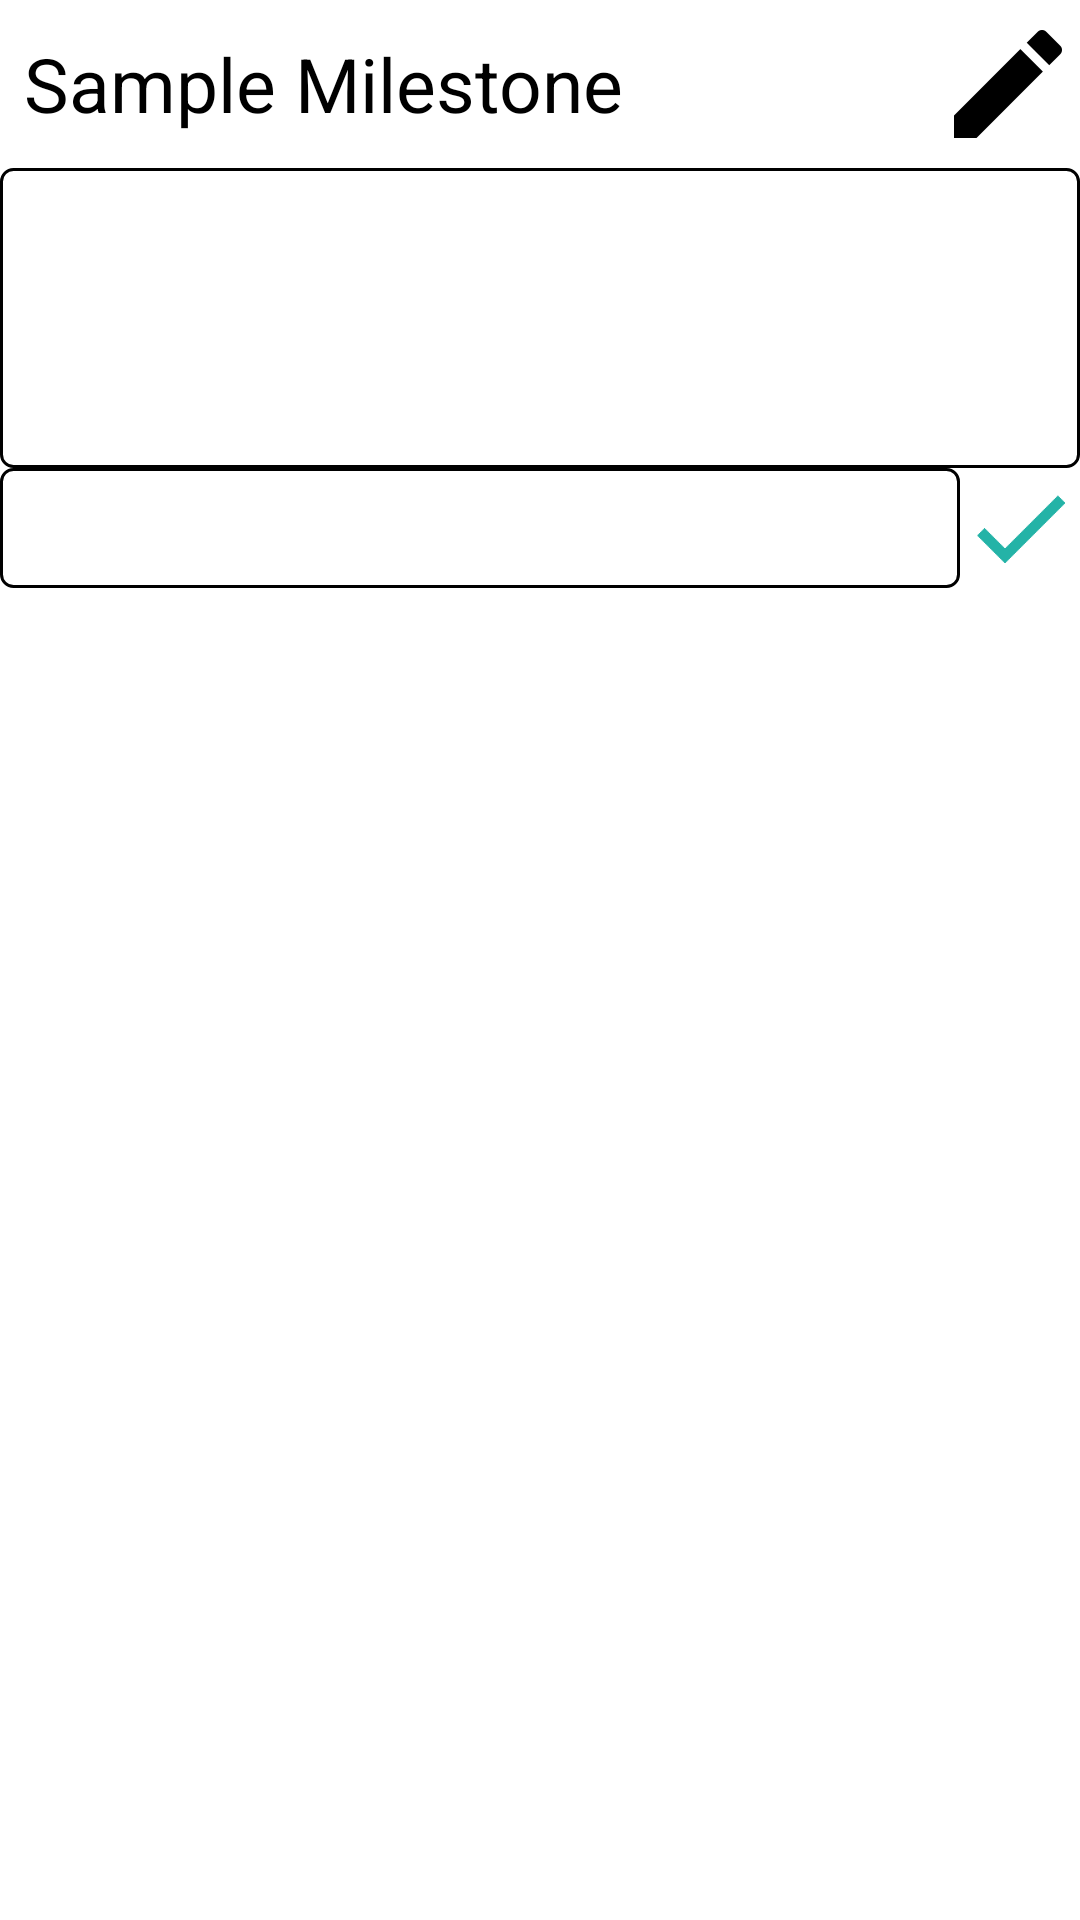

Point at icon controls on the screen. Image size 1080px×1920px, points as point (x, y).
check: point (1021, 529)
pencil: point (1008, 84)
